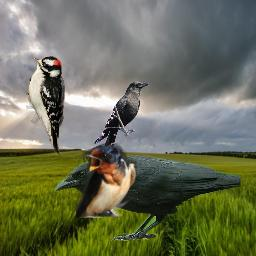Crow: (54, 155, 242, 243), (94, 81, 149, 156)
Swallow: (76, 143, 137, 218)
Woodpecker: (26, 56, 65, 155)
